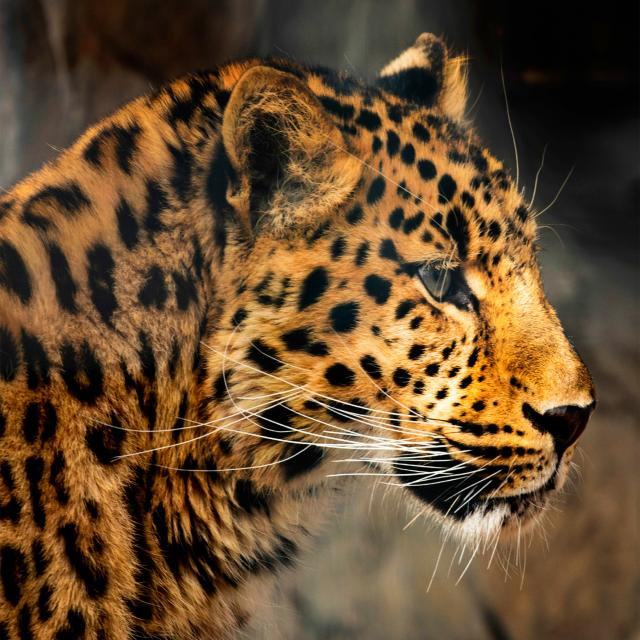leopard: (0, 33, 596, 640)
